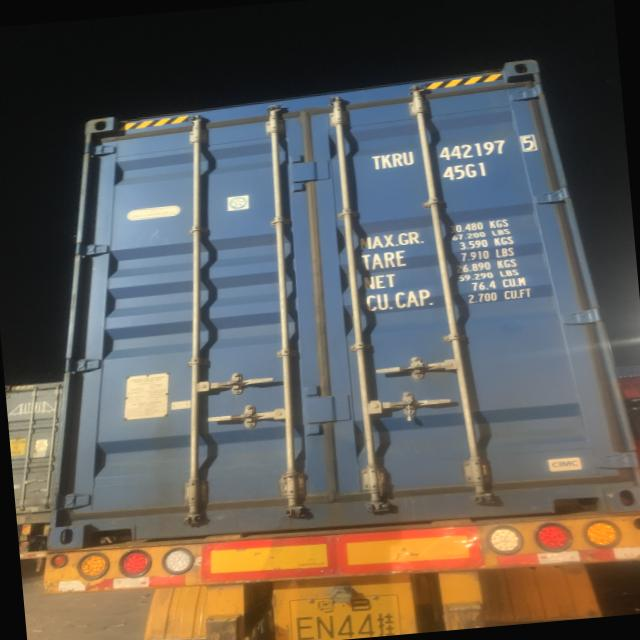seal: (402, 397, 416, 422)
